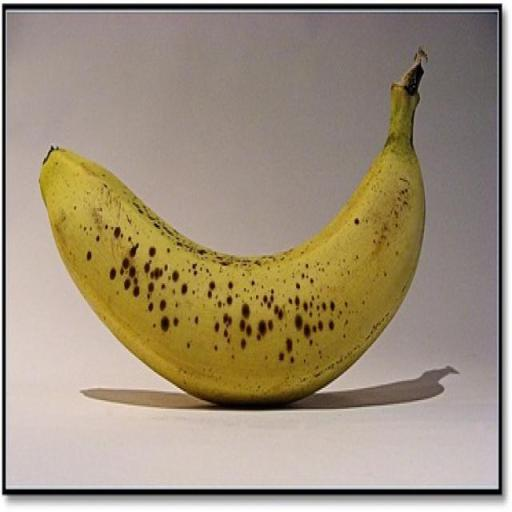fruit: (40, 49, 425, 404)
